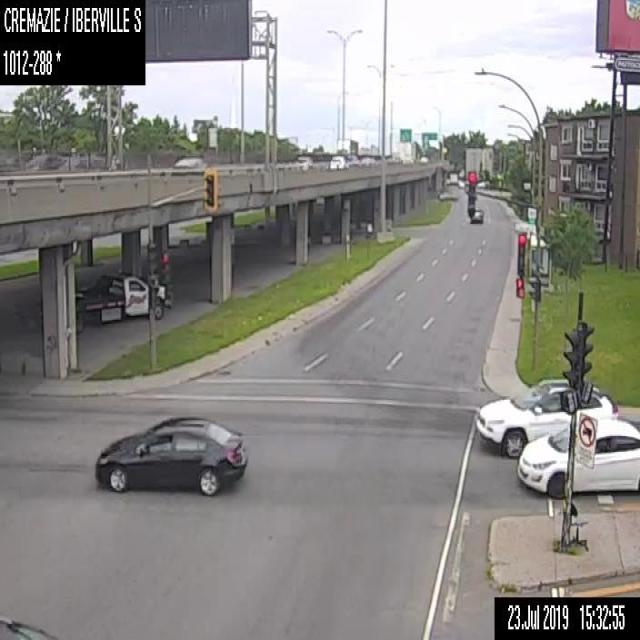vehicle: (95, 413, 248, 496), (475, 377, 617, 458), (516, 415, 639, 499), (76, 268, 166, 330), (34, 154, 69, 168), (335, 137, 358, 158), (398, 140, 416, 164), (173, 157, 206, 168), (328, 154, 348, 170), (296, 154, 312, 170), (438, 189, 458, 201), (360, 155, 376, 167), (346, 155, 362, 167), (470, 208, 482, 222), (419, 155, 429, 164)
